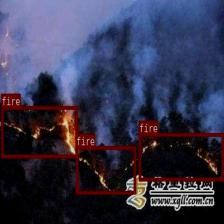fire: (138, 133, 224, 180), (1, 105, 77, 158), (76, 145, 135, 194)
